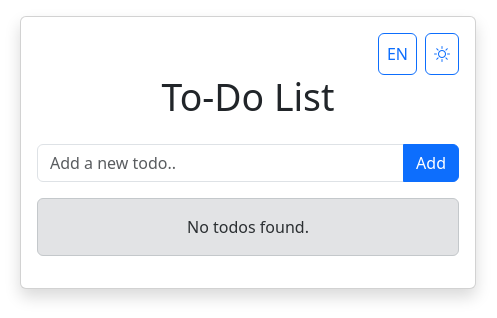
Test case: todoList App › should delete a task
Type "Delete Task" into the field with placeholder "Add a new todo..".
click(221, 163); type("Delete Task")  # box [37,144,404,182]
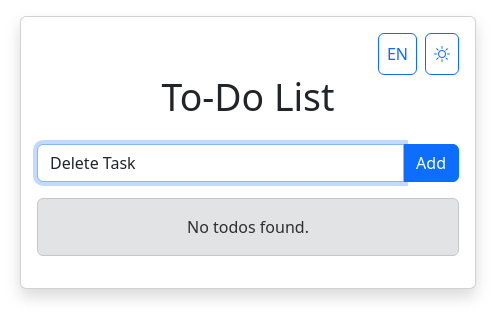
Click the button "Add".
click(431, 163)  # box [403,144,459,182]
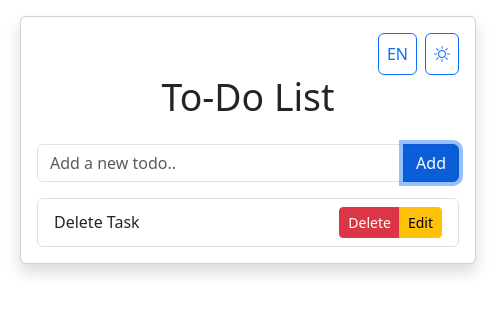
Expected: the list with class "list-group" shows "Delete Task", [37,198,459,247]
Click the button "Delete".
click(370, 223)  # box [339,207,400,238]
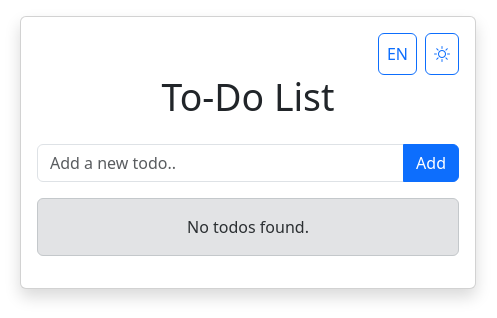
Expected: the text "Delete Task" is gone
